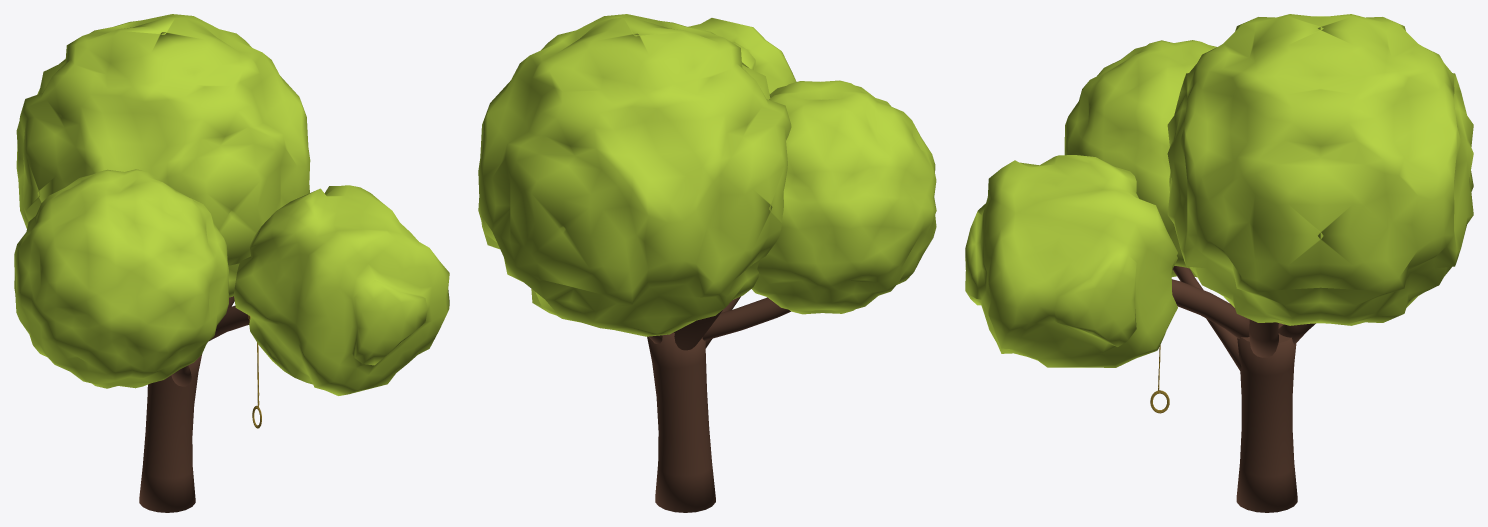
File: baumseil.dae
The picture shows the model from 3 angles, left to right: view 1: azimuth 30°, elevation 25°; view 2: azimuth 150°, elevation 25°; view 3: azimuth 270°, elevation 25°; orthographic projection. The views are drawn at different scales.
Visible parts, largest first — view 1: Geosph_re001, Geosph_re002, Geosph_re003, Zylinder001, Zylinder006; view 2: Geosph_re001, Geosph_re002, Zylinder001, Geosph_re003, Zylinder007, Zylinder004; view 3: Geosph_re001, Geosph_re003, Geosph_re002, Zylinder001, Zylinder006, Zylinder002, Zylinder005.
Boxes of the visible parts, x1,y1,x2,y2 form: Geosph_re001: (16, 14, 310, 297); Geosph_re002: (14, 169, 228, 388); Geosph_re003: (233, 185, 449, 395); Zylinder001: (139, 355, 201, 512); Zylinder006: (208, 305, 249, 341); Geosph_re001: (478, 14, 791, 336); Geosph_re002: (752, 80, 936, 314); Zylinder001: (647, 332, 715, 512); Geosph_re003: (688, 18, 796, 93); Zylinder007: (702, 297, 790, 340); Zylinder004: (674, 310, 722, 350); Geosph_re001: (1167, 14, 1473, 325); Geosph_re003: (965, 155, 1177, 367); Geosph_re002: (1064, 40, 1217, 277); Zylinder001: (1236, 325, 1297, 512); Zylinder006: (1172, 279, 1249, 338); Zylinder002: (1249, 319, 1278, 357); Zylinder005: (1172, 266, 1241, 370).
Bounding box in the file's own units: 4.64 × 5.37 × 5.62.
